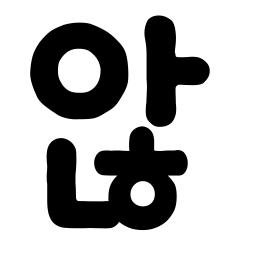Gaji: (135, 46, 197, 98)
